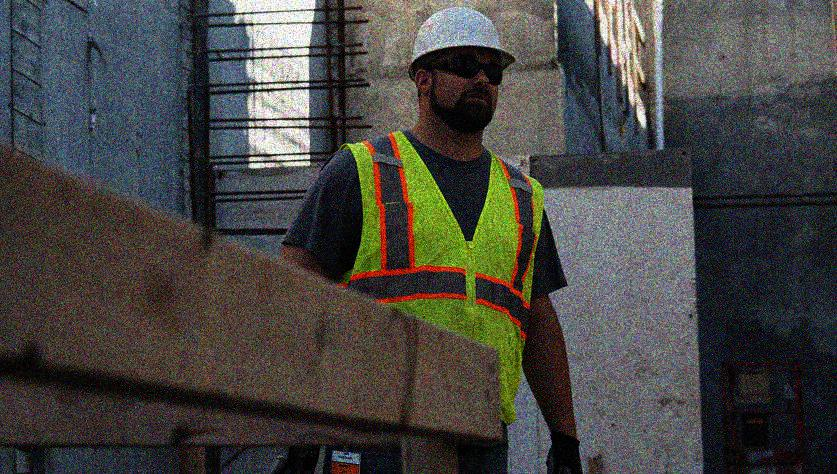helmet: (406, 8, 515, 132)
